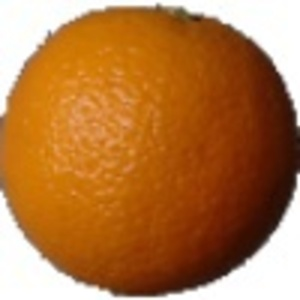laranja: (2, 4, 298, 294)
